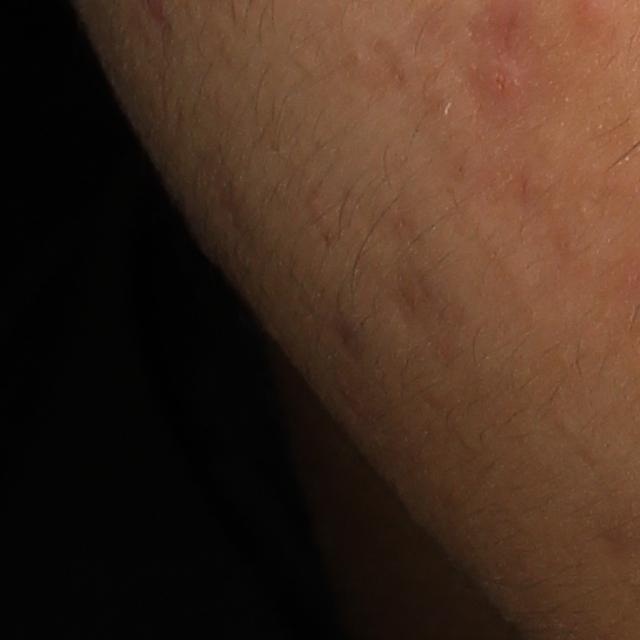papule: (472, 54, 529, 110)
